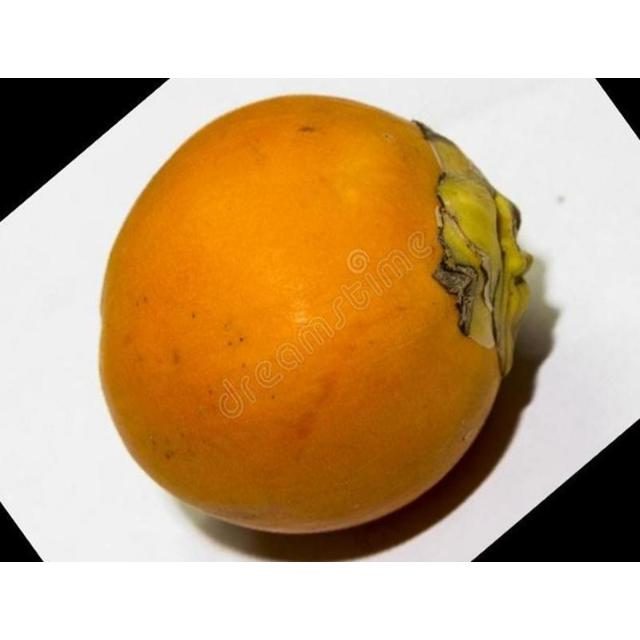good: (95, 94, 534, 540)
